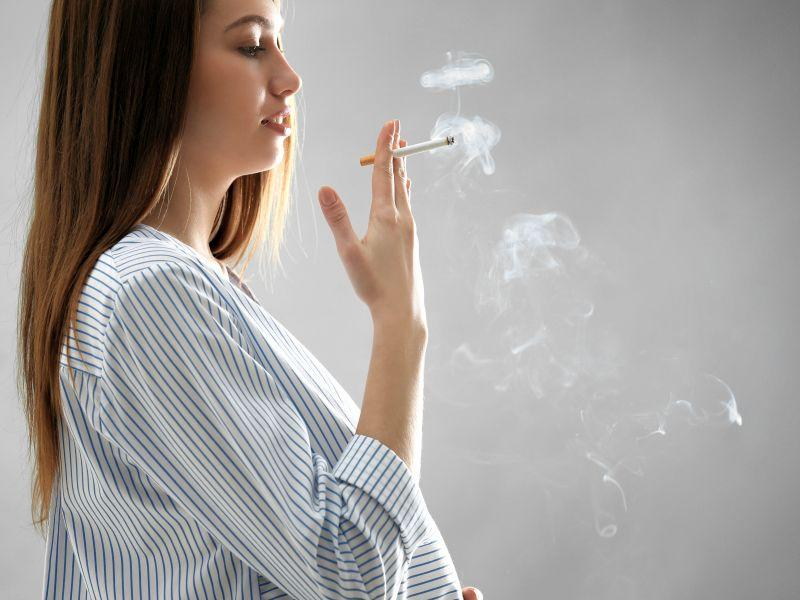cigarette: (391, 136, 454, 157)
